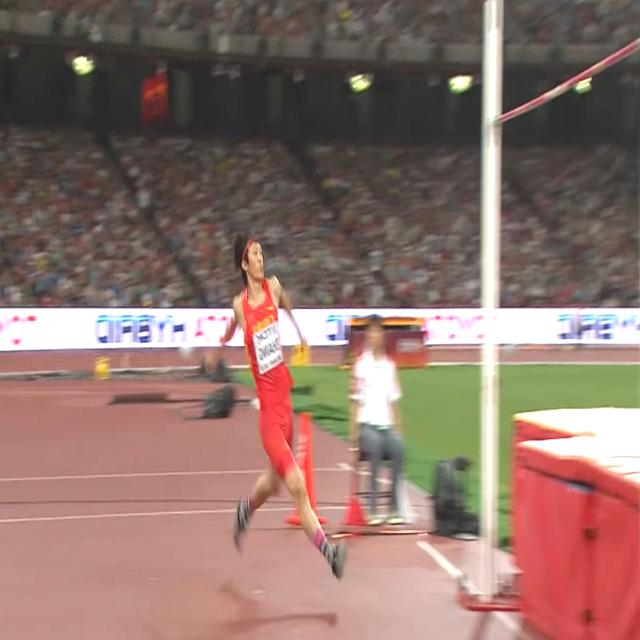run: (220, 228, 346, 583)
